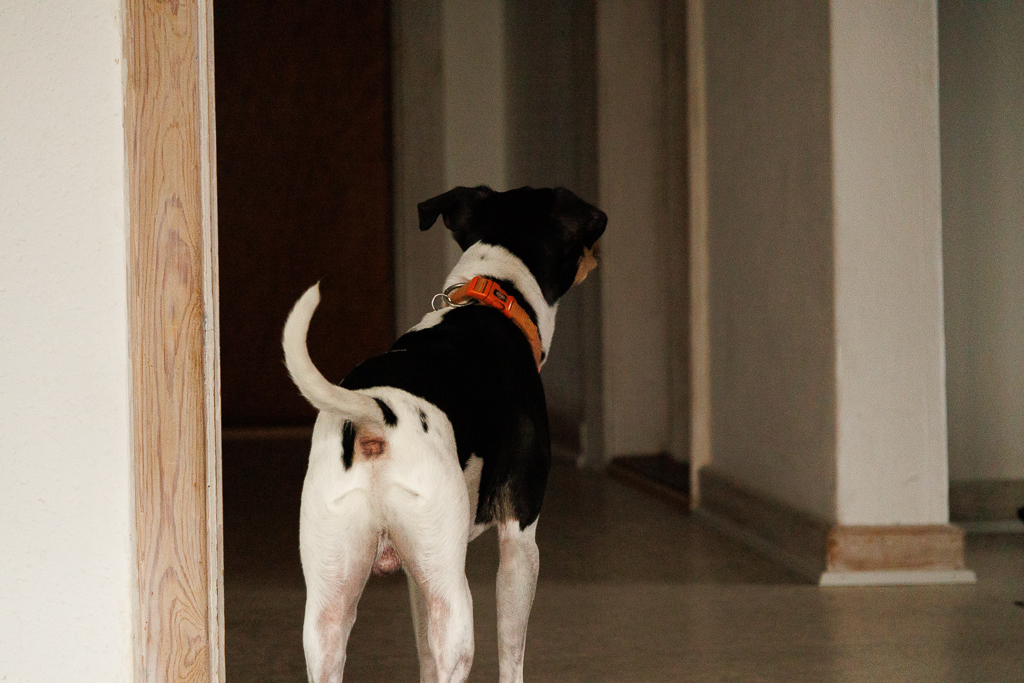Dog: (276, 174, 619, 683)
